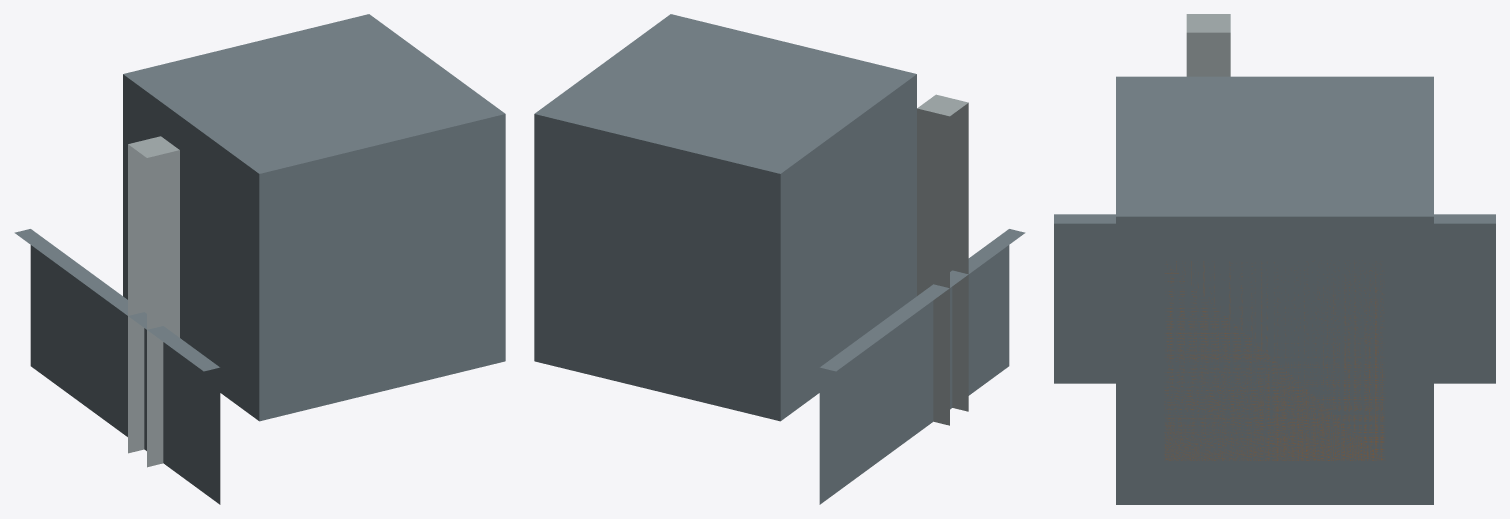
The model's file is cell_69.obj.
3 renders of one model, left to right at view 1: azimuth 30°, elevation 25°; view 2: azimuth 150°, elevation 25°; view 3: azimuth 270°, elevation 25°, orthographic. The views are drawn at different scales.
Bounding box in the file's own units: 1 × 0.9 × 1.
